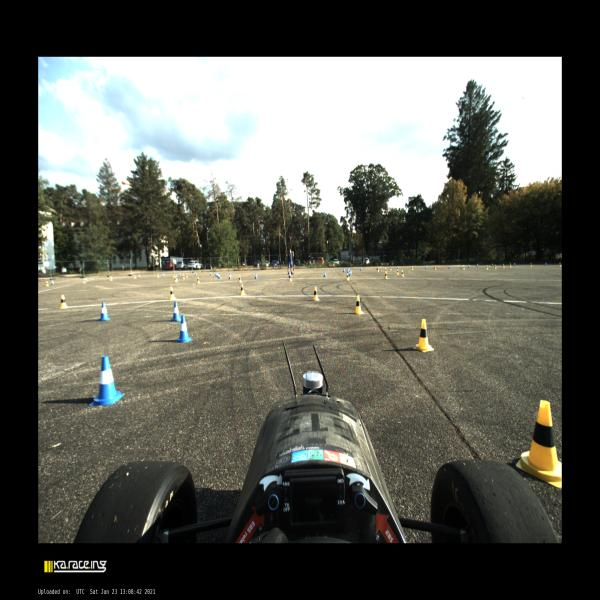blue_cone: (90, 354, 125, 404), (176, 315, 193, 343), (170, 302, 182, 321), (99, 302, 110, 320), (288, 272, 291, 278), (254, 273, 257, 279), (323, 271, 326, 277), (228, 274, 231, 279), (348, 271, 351, 276), (51, 280, 54, 285), (350, 269, 352, 275), (460, 264, 462, 269), (491, 263, 494, 266), (343, 268, 345, 272), (360, 266, 362, 270), (396, 265, 398, 269), (425, 265, 427, 269), (448, 265, 450, 269), (544, 262, 546, 266), (514, 262, 516, 266), (210, 272, 212, 276), (194, 272, 196, 276), (179, 272, 181, 276), (138, 274, 140, 278), (476, 264, 478, 267), (163, 273, 165, 276), (217, 273, 218, 278), (219, 274, 220, 279), (215, 272, 216, 276), (468, 264, 469, 267)
yellow_cone: (516, 400, 562, 490), (412, 319, 434, 352), (353, 295, 363, 314), (59, 294, 68, 308), (169, 286, 176, 300), (312, 286, 319, 300), (239, 284, 246, 296), (384, 271, 388, 279), (238, 276, 242, 283), (197, 276, 200, 284), (395, 269, 399, 275), (346, 273, 349, 280), (289, 275, 292, 281), (401, 270, 404, 276), (182, 274, 185, 280), (46, 280, 49, 286), (175, 275, 178, 281), (376, 267, 379, 272), (485, 265, 488, 270), (502, 263, 505, 268), (83, 278, 86, 283), (172, 273, 175, 278), (462, 266, 465, 270), (185, 274, 188, 278), (384, 268, 386, 273), (175, 277, 177, 282), (494, 264, 496, 269), (110, 276, 112, 281), (134, 274, 136, 279), (157, 273, 159, 278), (390, 266, 392, 270), (411, 266, 413, 270), (434, 266, 436, 270), (510, 263, 512, 267), (530, 262, 532, 266), (559, 262, 561, 266)
